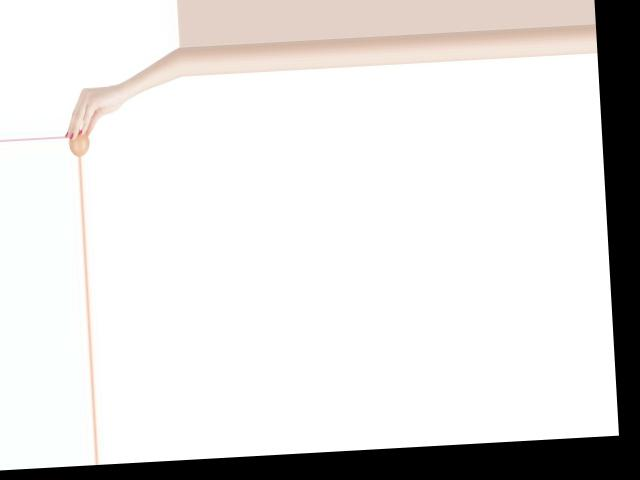egg: (68, 129, 90, 156)
